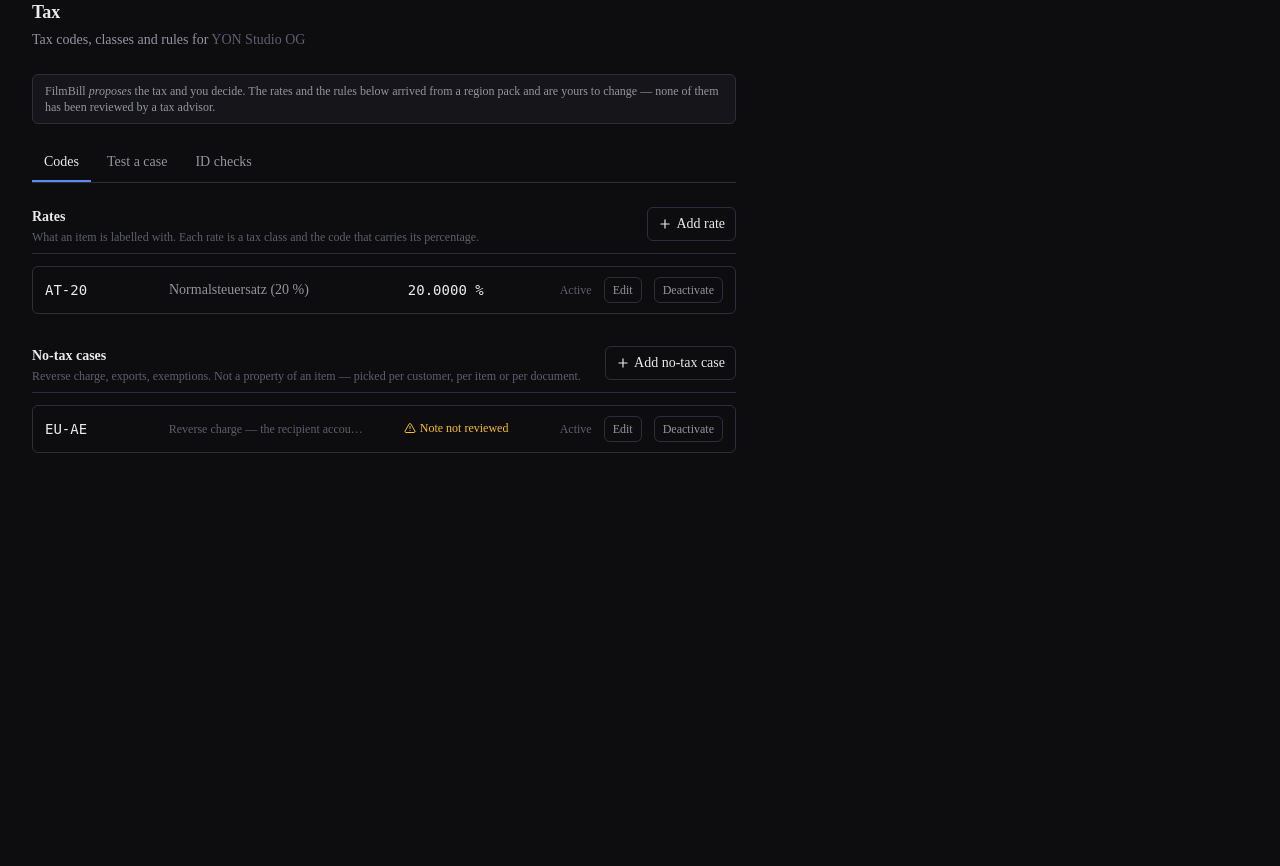
adding a no-tax case › says the wording is the user’s responsibility
Click the button with test id "tax-add-no-tax-case": (670, 363) [605, 346, 736, 380]
(page scrolled)
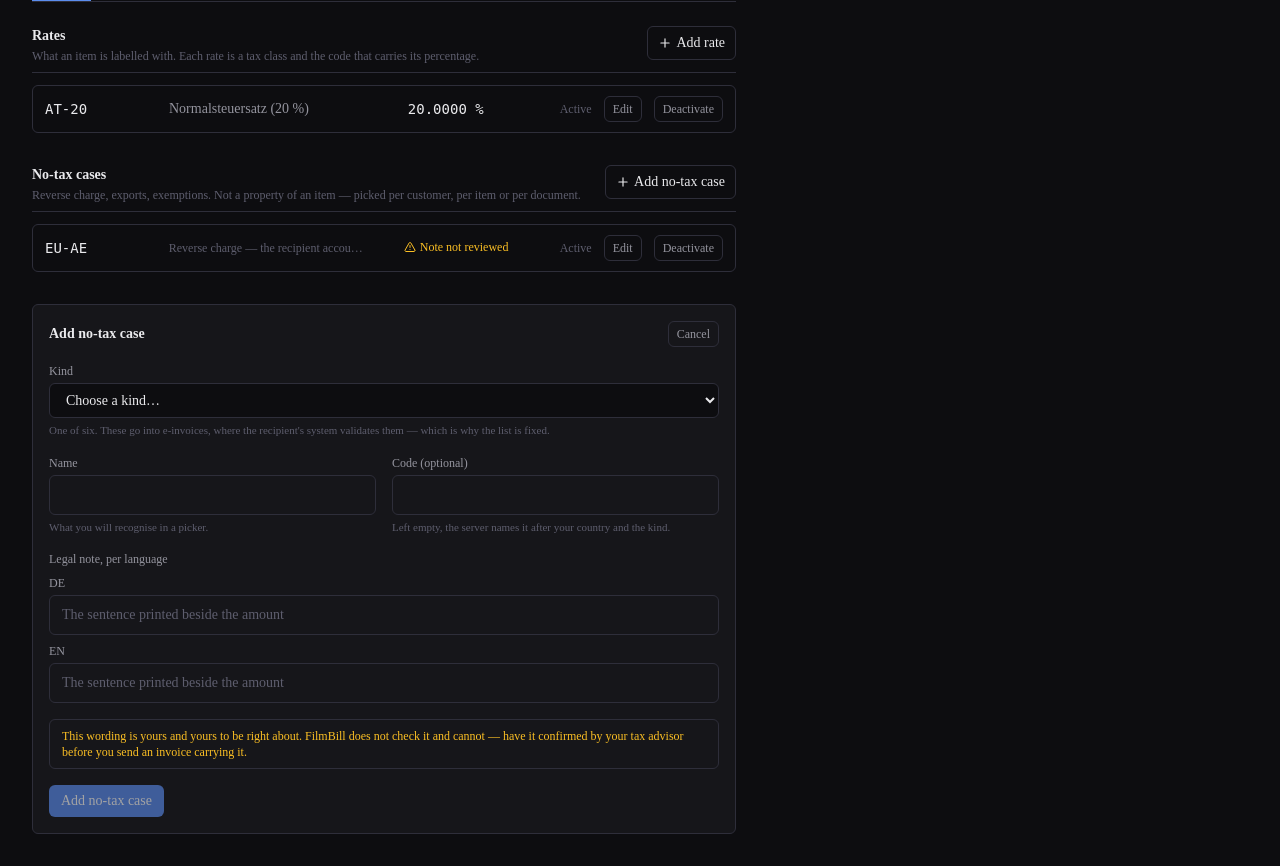
Expected: the text with test id "tax-no-tax-responsibility" shows "yours to be right about", [62, 729, 684, 759]
Expected: the text with test id "tax-no-tax-responsibility" shows "tax advisor", [62, 729, 684, 759]
